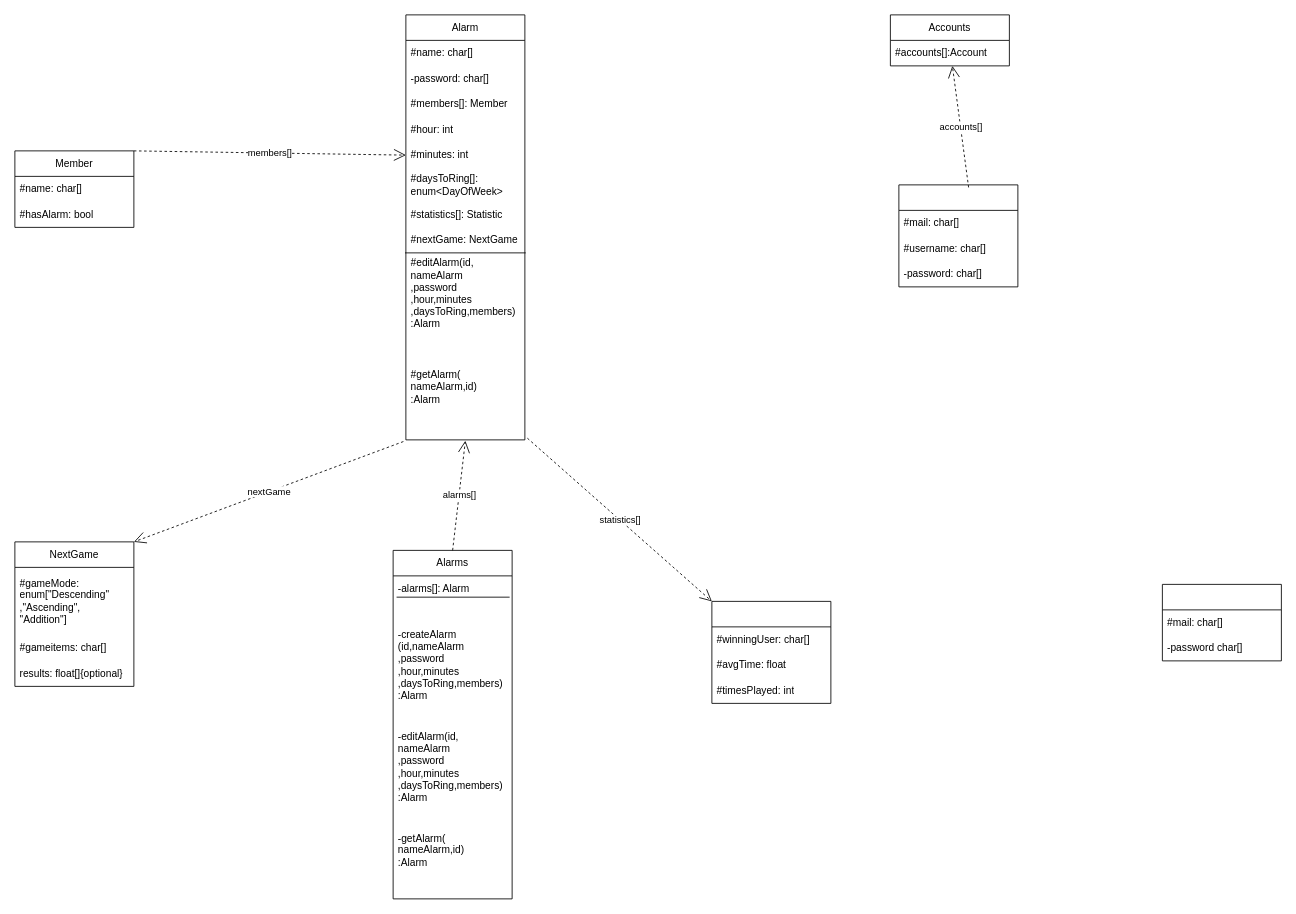
This 1296x914 diagram has some shape labels left out. Here are the shapes that lost their labels. From the top down, the box of each, then its label:
(898, 184, 1018, 287): Account
(1162, 584, 1281, 661): CreateAccount
(711, 601, 831, 703): Statistic
